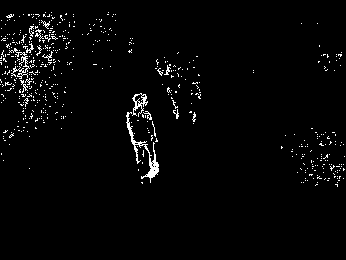person: (125, 92, 159, 184)
